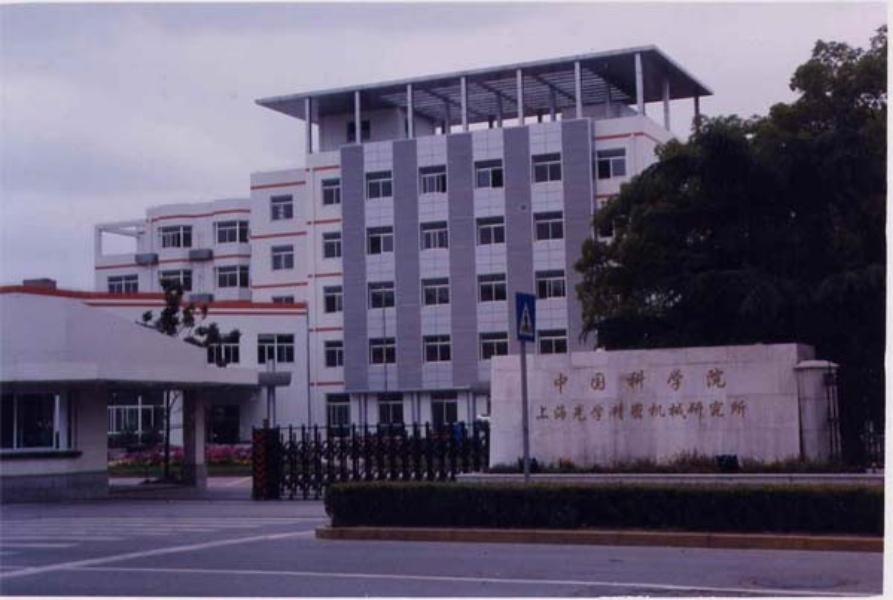text: (561, 367, 576, 397), (577, 367, 592, 397), (593, 367, 608, 397), (609, 367, 624, 397), (625, 367, 640, 397), (641, 367, 656, 397), (657, 367, 672, 397), (673, 367, 688, 397), (689, 367, 704, 397), (705, 367, 720, 397), (545, 398, 560, 425), (561, 398, 576, 425), (577, 398, 592, 425), (593, 398, 608, 425), (609, 398, 624, 425), (625, 398, 640, 425), (641, 398, 656, 425), (657, 398, 672, 425), (673, 398, 688, 425), (689, 398, 704, 425), (705, 398, 720, 425), (721, 398, 736, 425), (533, 398, 544, 425), (737, 398, 748, 425), (551, 367, 560, 397), (721, 367, 730, 397)
